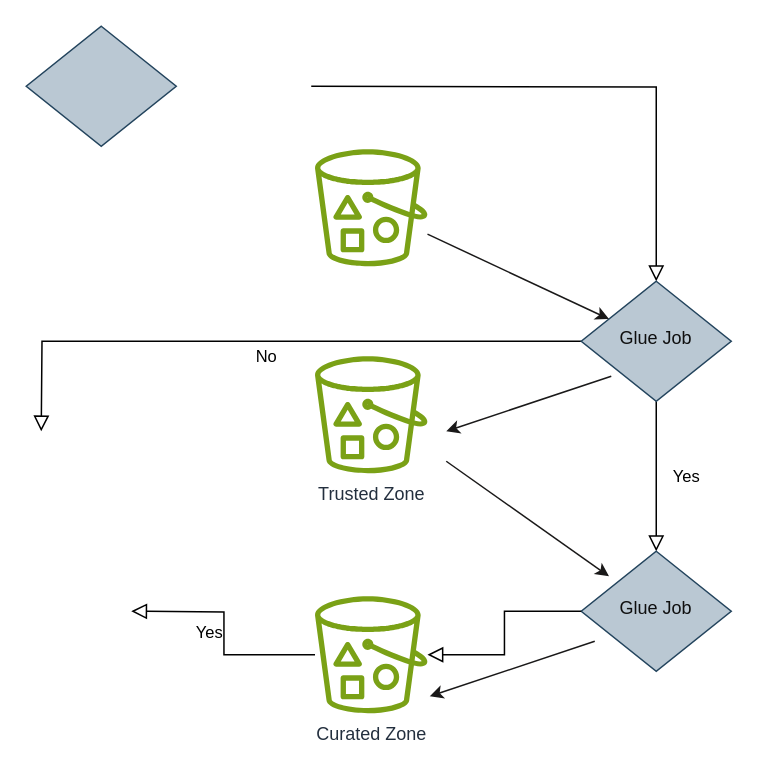
The diagram is 758 pixels wide and 771 high, and some of its shapes have lost their labels. Here are the shapes that lost their labels. From the top down, the centre of each, then its label:
point (100, 85): Security Settings
point (370, 207): Landing Zone
